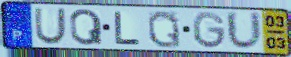G: (191, 11, 228, 51)
L: (112, 10, 143, 46)
Q: (146, 9, 183, 50), (68, 8, 105, 47)
U: (224, 10, 265, 52), (33, 7, 68, 46)
